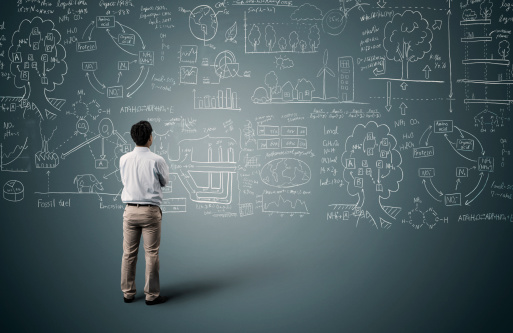em pe: (113, 113, 174, 308)
